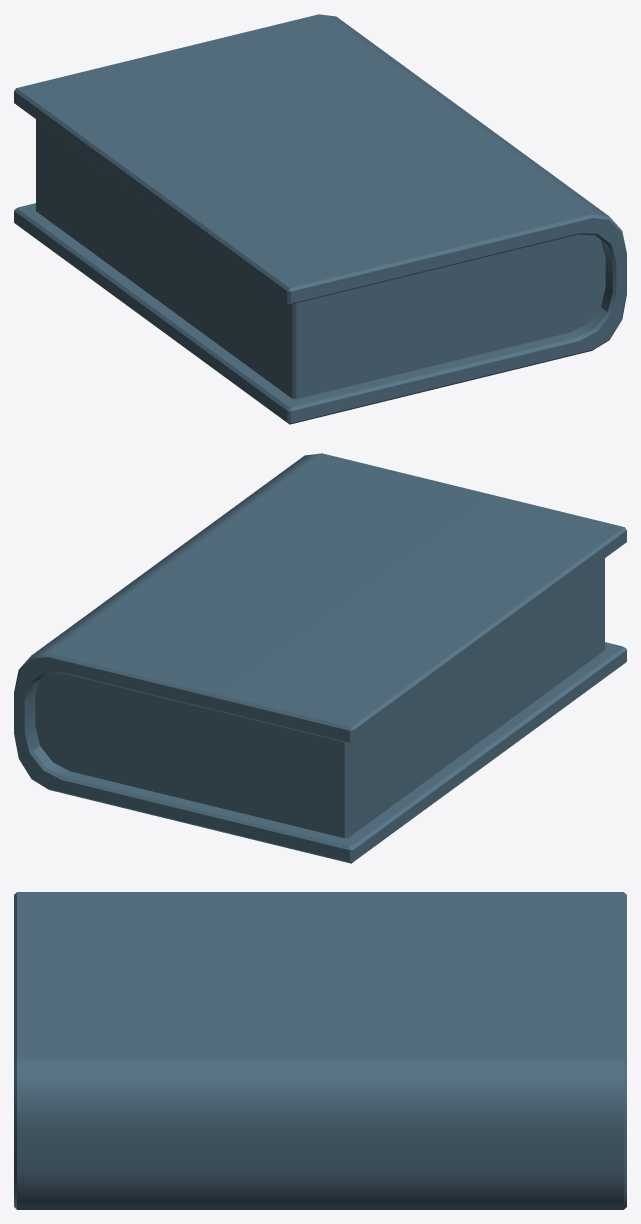
Rendered from Book_02.fbx.
3 views of the same model, one above another, from view 1: azimuth 30°, elevation 25°; view 2: azimuth 150°, elevation 25°; view 3: azimuth 270°, elevation 25° (orthographic). The views are drawn at different scales.
Parts seen in each view (by area): view 1: Book_02; view 2: Book_02; view 3: Book_02.
Part boxes in pixels (x1,y1,x2,y2): Book_02: [14, 14, 626, 424]; Book_02: [14, 453, 626, 863]; Book_02: [14, 892, 626, 1209].
Size of the model in its own units: 0.1938 by 0.0744 by 0.2728.
